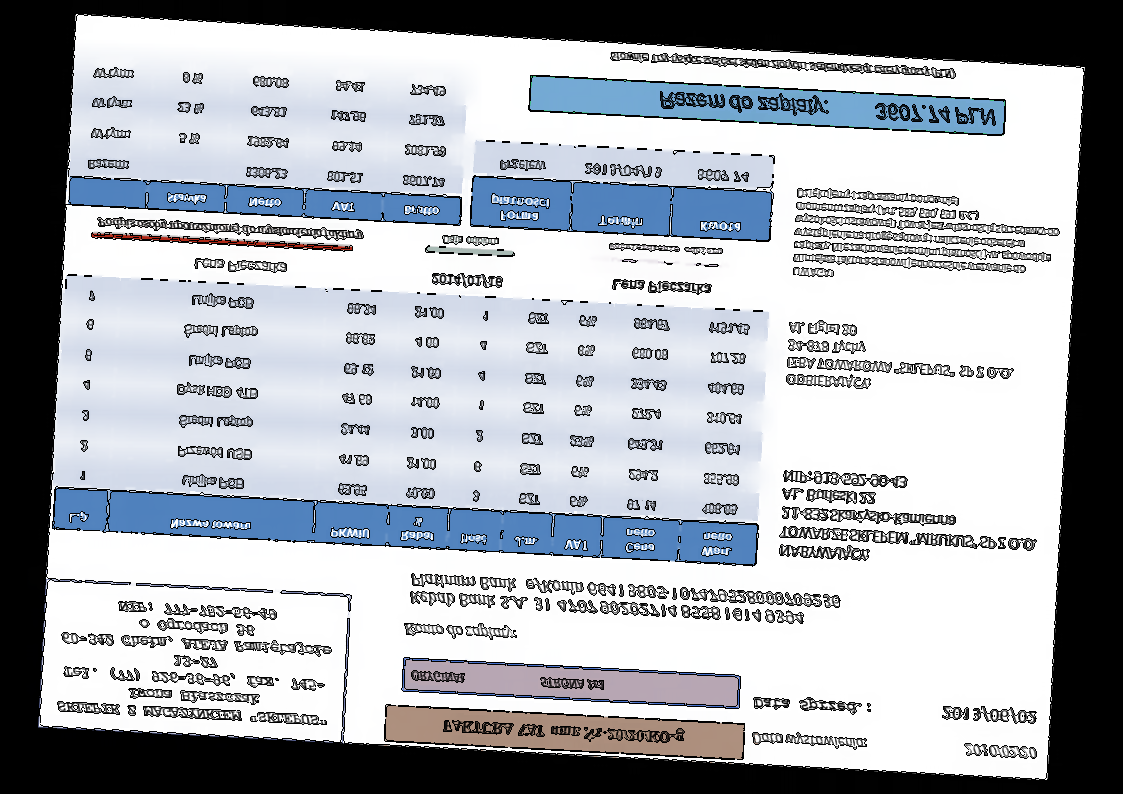Table: (50, 274, 771, 568), (66, 52, 469, 227), (469, 139, 777, 242)
TextBox: (54, 595, 336, 732), (789, 184, 1061, 292), (776, 465, 1043, 572), (408, 570, 844, 630), (783, 318, 1017, 400), (654, 87, 999, 129), (608, 48, 955, 83), (440, 714, 687, 749), (95, 213, 366, 244), (408, 667, 608, 694), (402, 618, 519, 644), (753, 693, 873, 718), (750, 730, 869, 753), (609, 276, 712, 299), (940, 704, 1038, 727), (607, 241, 723, 259), (192, 256, 289, 277), (962, 742, 1038, 762), (429, 270, 505, 290), (441, 232, 501, 250)
